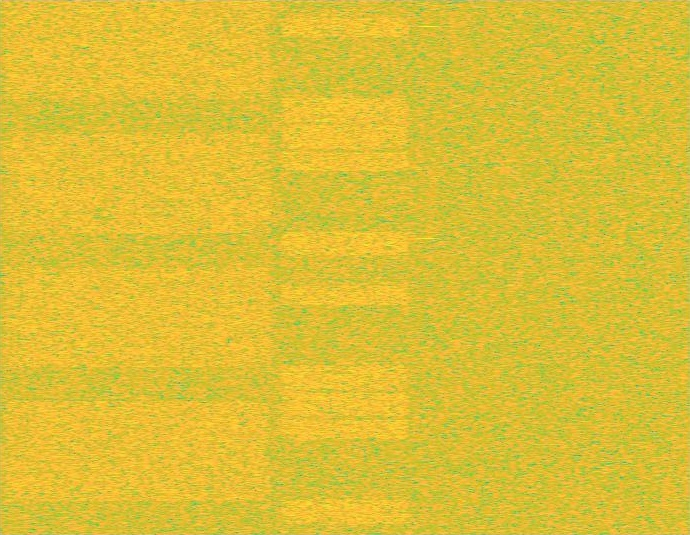5G: (0, 0, 276, 534)
LTE: (276, 0, 414, 534)
Radar: (421, 0, 435, 534)
